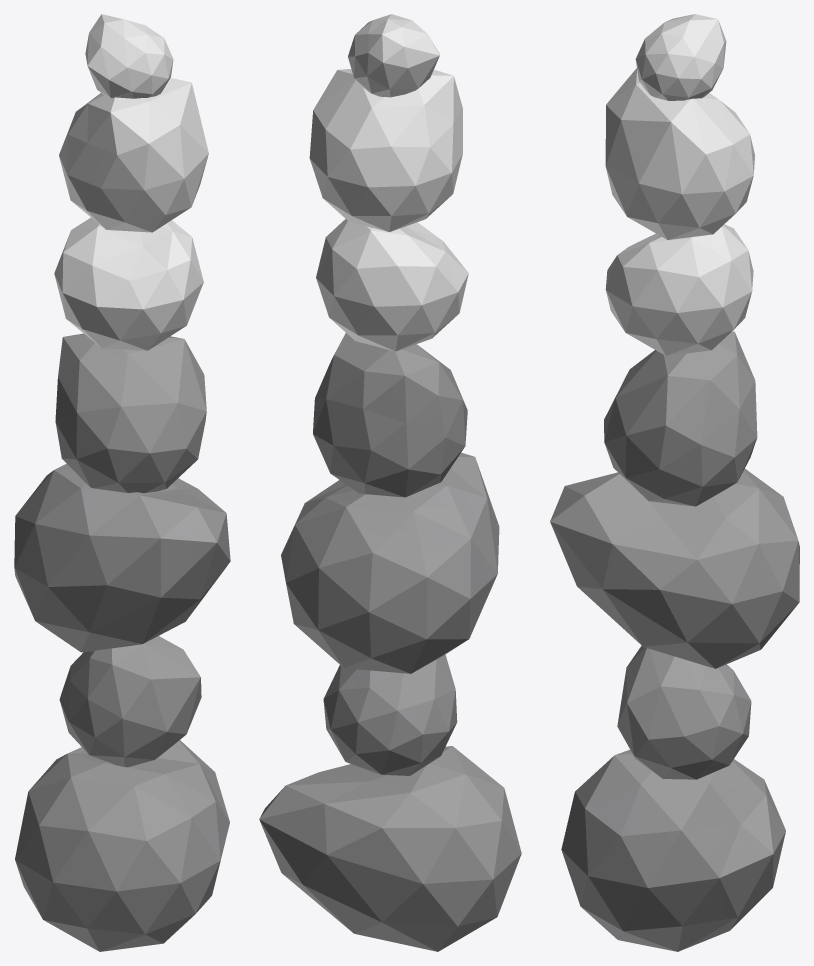
The model's file is TASLAR.fbx.
The picture shows the model from 3 angles, left to right: view 1: azimuth 30°, elevation 25°; view 2: azimuth 150°, elevation 25°; view 3: azimuth 270°, elevation 25°; orthographic projection.
Parts seen in each view (by area): view 1: Icosphere.007, Icosphere.010, Icosphere.009, Icosphere.014, Icosphere.015, Icosphere.008, Icosphere.016; view 2: Icosphere.007, Icosphere.010, Icosphere.014, Icosphere.009, Icosphere.015, Icosphere.008, Icosphere.016; view 3: Icosphere.010, Icosphere.007, Icosphere.009, Icosphere.014, Icosphere.015, Icosphere.008, Icosphere.016.
Part boxes in pixels (x1,y1,x2,y2): Icosphere.007: (15, 740, 229, 951); Icosphere.010: (14, 463, 230, 652); Icosphere.009: (55, 333, 206, 493); Icosphere.014: (59, 78, 208, 232); Icosphere.015: (54, 217, 203, 350); Icosphere.008: (59, 636, 201, 767); Icosphere.016: (85, 14, 173, 98); Icosphere.007: (259, 746, 521, 951); Icosphere.010: (281, 452, 499, 673); Icosphere.014: (309, 69, 462, 232); Icosphere.009: (313, 333, 467, 497); Icosphere.015: (316, 219, 468, 351); Icosphere.008: (323, 654, 457, 775); Icosphere.016: (348, 14, 439, 97); Icosphere.010: (550, 468, 799, 668); Icosphere.007: (561, 749, 785, 951); Icosphere.009: (604, 331, 757, 506); Icosphere.014: (605, 68, 754, 239); Icosphere.015: (605, 224, 753, 355); Icosphere.008: (617, 645, 751, 779); Icosphere.016: (635, 14, 726, 100).
Size of the model in its own units: 104 by 425 by 104.
